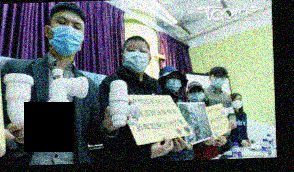with_mask: (49, 12, 85, 55), (122, 42, 150, 72), (165, 74, 182, 93), (210, 72, 225, 89), (187, 88, 203, 102), (231, 95, 242, 110)
